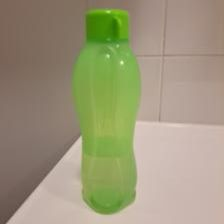bottle: (76, 7, 141, 214)
